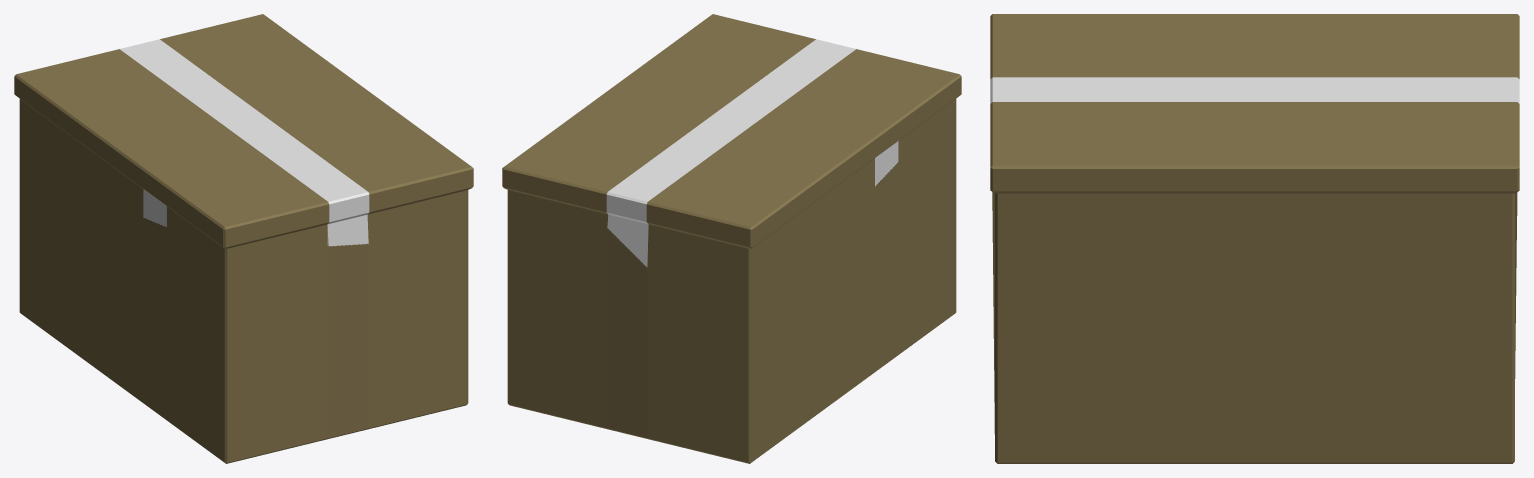
The picture shows the model from 3 angles, left to right: view 1: azimuth 30°, elevation 25°; view 2: azimuth 150°, elevation 25°; view 3: azimuth 270°, elevation 25°; orthographic projection. The views are drawn at different scales.
Parts seen in each view (by area): view 1: box; view 2: box; view 3: box.
Part boxes in pixels (bbox=[...]): box: bbox=[14, 14, 473, 463]; box: bbox=[502, 14, 961, 463]; box: bbox=[990, 14, 1519, 463].
Bounding box in the file's own units: 43.94 × 40.08 × 64.01.
